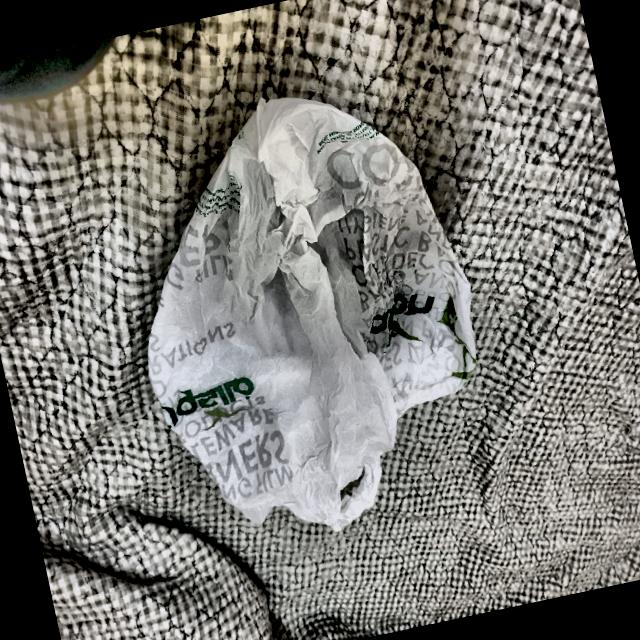plastic bag: (93, 54, 522, 565)
